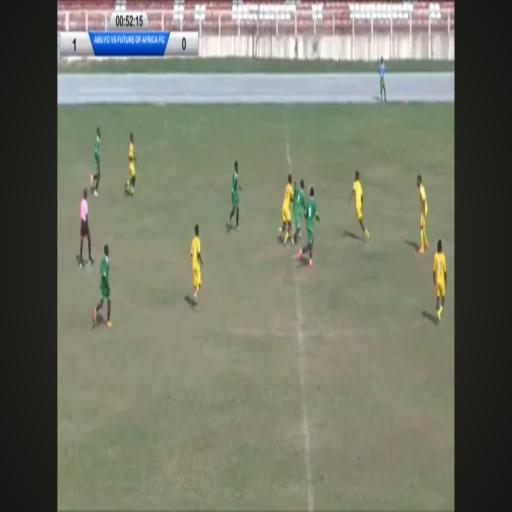referee: (76, 176, 96, 266)
team1: (429, 233, 452, 337), (409, 171, 434, 256), (350, 162, 371, 249), (276, 156, 294, 248), (124, 126, 140, 204), (190, 213, 201, 290)
team2: (93, 236, 114, 327), (301, 186, 320, 272), (225, 146, 242, 234), (292, 169, 304, 246), (93, 111, 102, 206)
